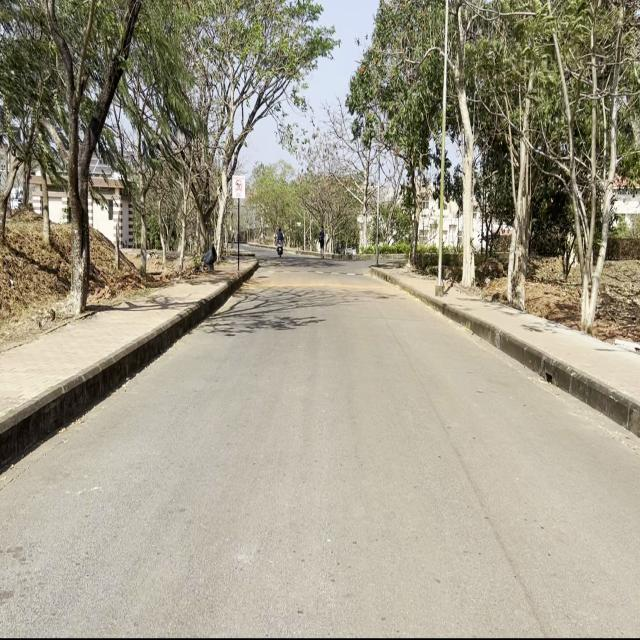Object: (276, 225, 285, 262)
Road: (3, 255, 638, 633)
